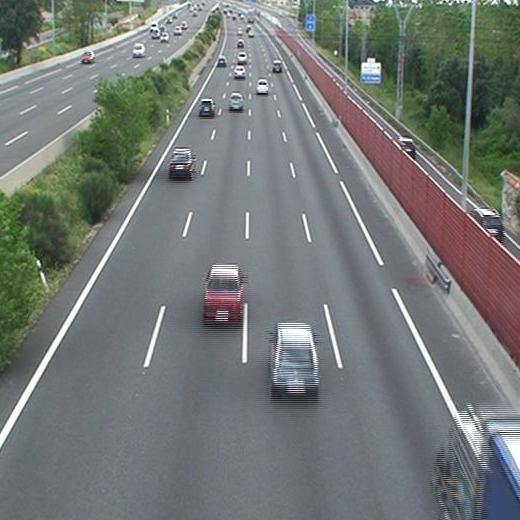car: (271, 324, 319, 392), (203, 265, 241, 321), (168, 149, 192, 174), (199, 99, 215, 116), (229, 93, 244, 109), (256, 79, 268, 94), (233, 66, 245, 77), (272, 60, 282, 71), (237, 52, 247, 63), (217, 56, 227, 66), (237, 40, 245, 48)
